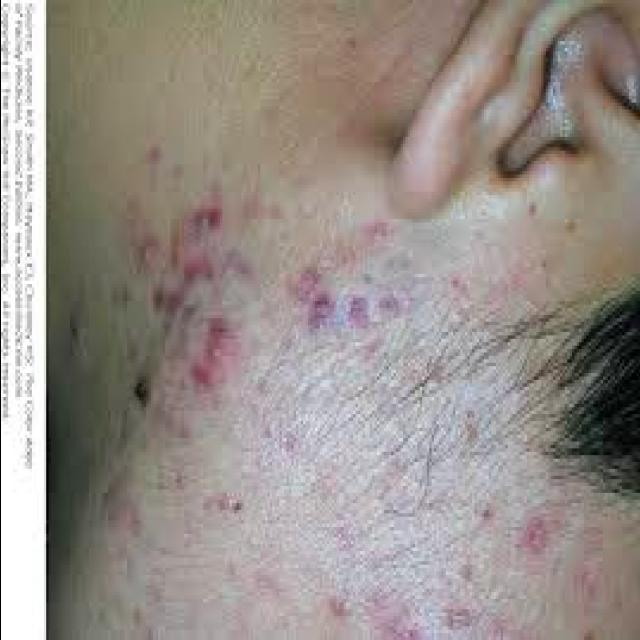Acne: (187, 312, 244, 394), (288, 261, 339, 341), (180, 248, 218, 300), (188, 198, 228, 242), (516, 512, 550, 560), (343, 288, 378, 334), (132, 231, 162, 281)
